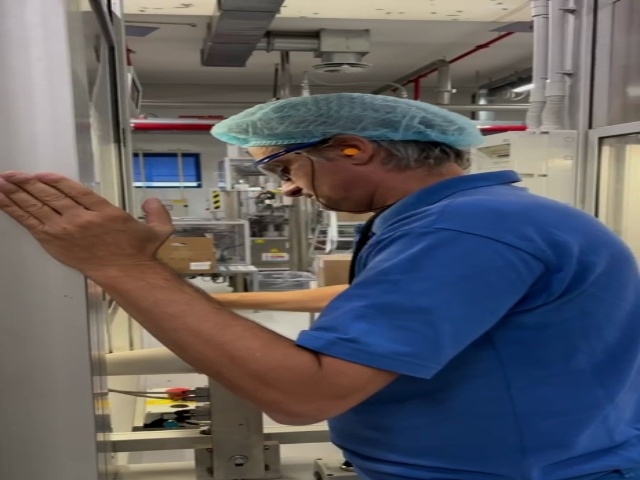Earplug: (330, 134, 375, 167)
Hairnet: (212, 99, 482, 146)
No_Helmet: (213, 102, 484, 147)
No_Vest: (323, 211, 640, 480)
Person: (1, 98, 640, 480)
Safety_Goggles: (254, 138, 330, 181)
